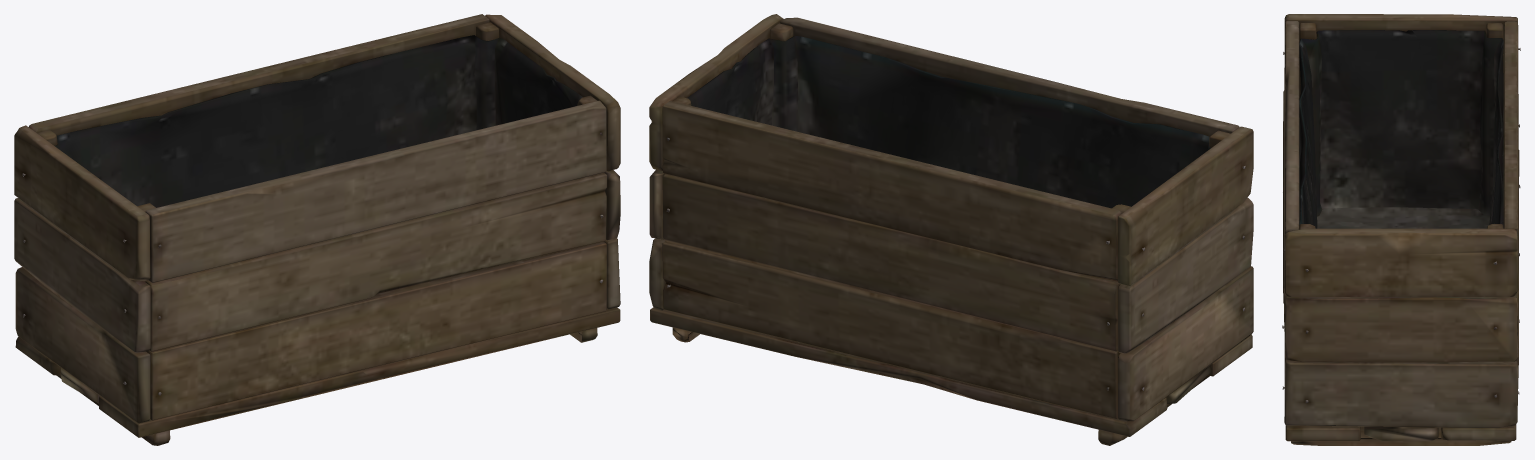
The model's file is planter_box_01.glb.
3 renders of one model, left to right at view 1: azimuth 30°, elevation 25°; view 2: azimuth 150°, elevation 25°; view 3: azimuth 270°, elevation 25°, orthographic. The views are drawn at different scales.
Visible parts, largest first — view 1: planter_box_01; view 2: planter_box_01; view 3: planter_box_01.
Part boxes in pixels (x1,y1,x2,y2): planter_box_01: (14,14,620,445); planter_box_01: (649,14,1253,445); planter_box_01: (1282,14,1520,445).
Bounding box in the file's own units: 0.9126 × 0.425 × 0.4137.
1 material, 1 textured.
